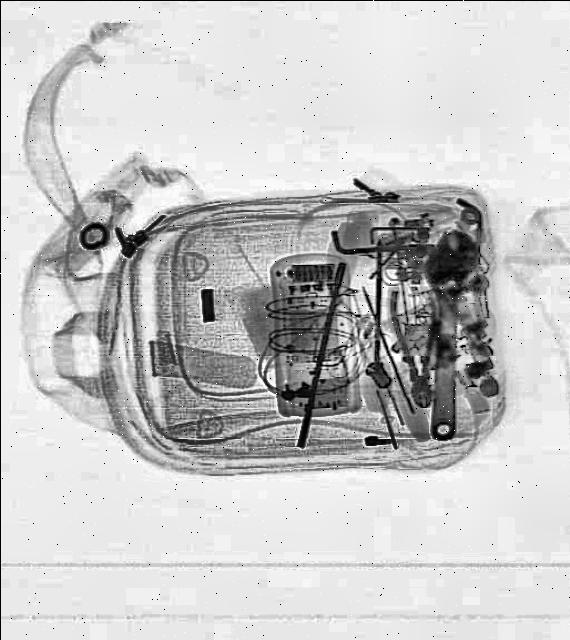Pliers: (386, 288, 447, 412)
Wrench: (416, 228, 478, 442)
